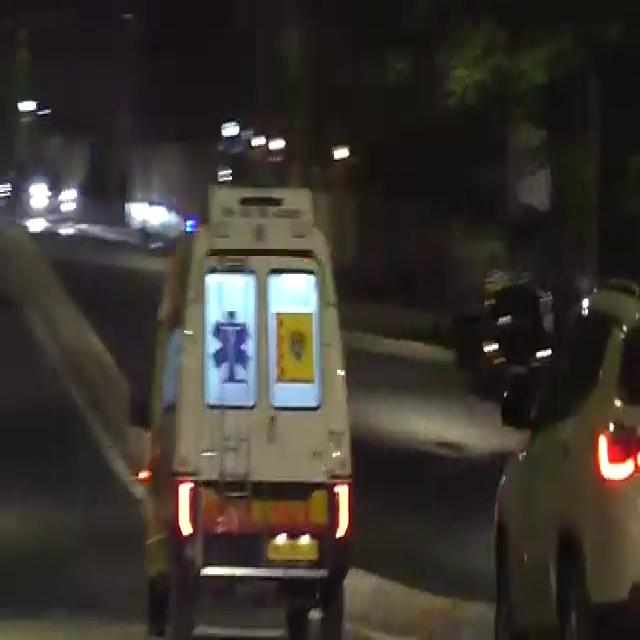ambulance: (157, 200, 353, 577)
